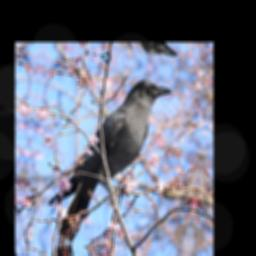Crow: (43, 60, 174, 256)
